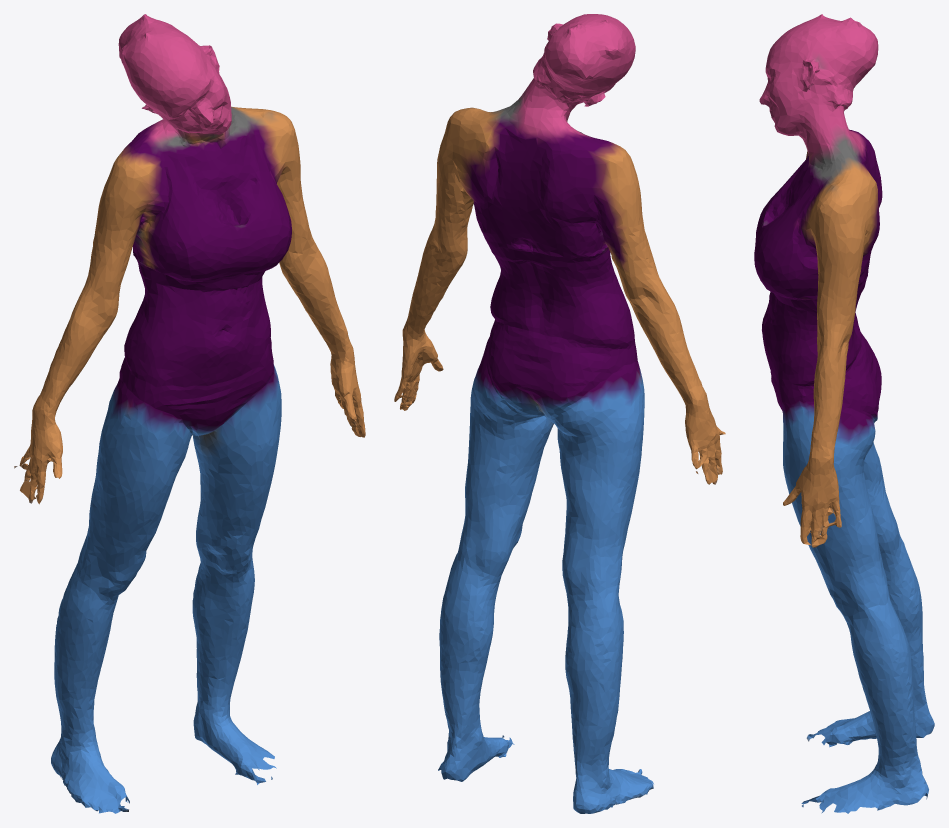
3 views of the same model, side by side, from view 1: azimuth 30°, elevation 25°; view 2: azimuth 150°, elevation 25°; view 3: azimuth 270°, elevation 25° (orthographic). The views are drawn at different scales.
Parts seen in each view (by area): view 1: geometry_0.001; view 2: geometry_0.001; view 3: geometry_0.001.
Boxes of the visible parts, <box> form: geometry_0.001: <box>14,14,365,813</box>; geometry_0.001: <box>394,14,725,813</box>; geometry_0.001: <box>754,14,934,813</box>.
Bounding box in the file's own units: 0.8258 × 1.87 × 0.4109.
